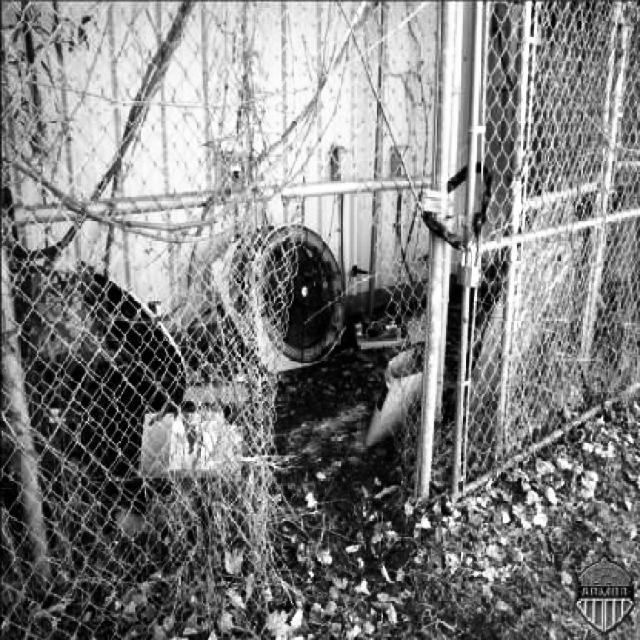anomaly-fence: (187, 136, 513, 576)
